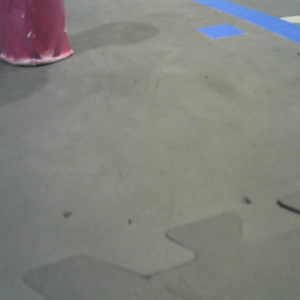middle: (1, 1, 73, 66)
